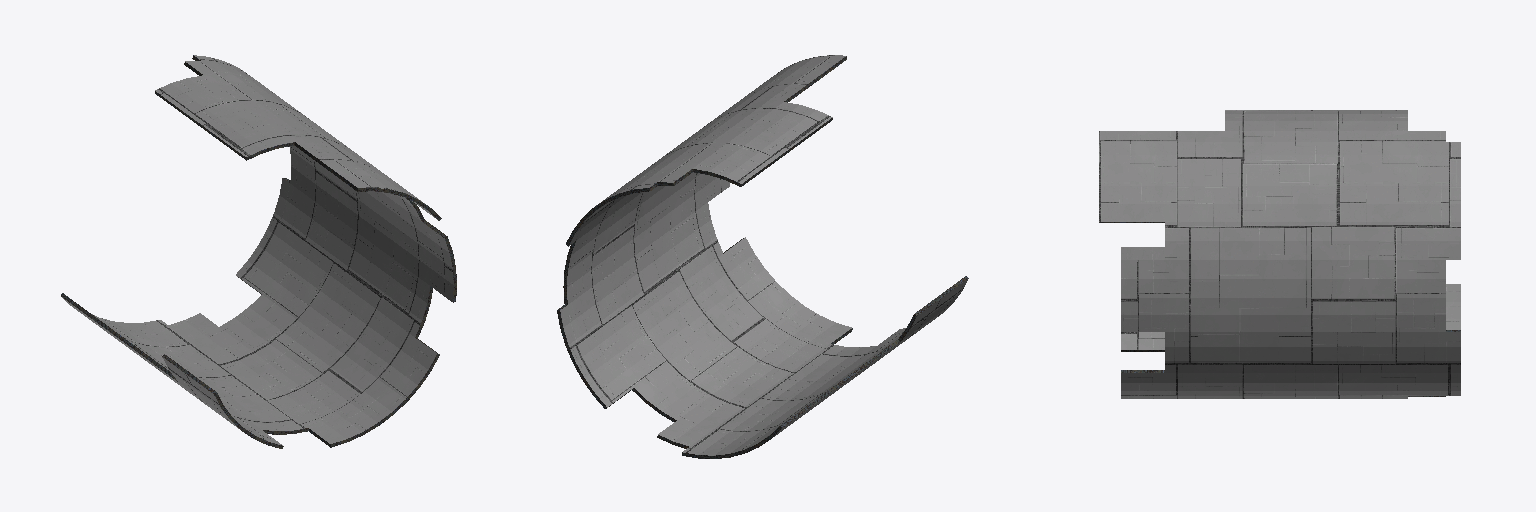
The picture shows the model from 3 angles: view 1: azimuth 30°, elevation 25°; view 2: azimuth 150°, elevation 25°; view 3: azimuth 270°, elevation 25°; orthographic projection.
Visible parts, largest first — view 1: st_space_debris_010.mo_space_debris_01; view 2: st_space_debris_010.mo_space_debris_01; view 3: st_space_debris_010.mo_space_debris_01.
Part boxes in pixels (x1,y1,x2,y2): st_space_debris_010.mo_space_debris_01: (61,55,456,448); st_space_debris_010.mo_space_debris_01: (557,55,968,458); st_space_debris_010.mo_space_debris_01: (1099,110,1460,398).
Size of the model in its own units: 16.29 by 16.93 by 21.02.
2 materials, 2 textured.